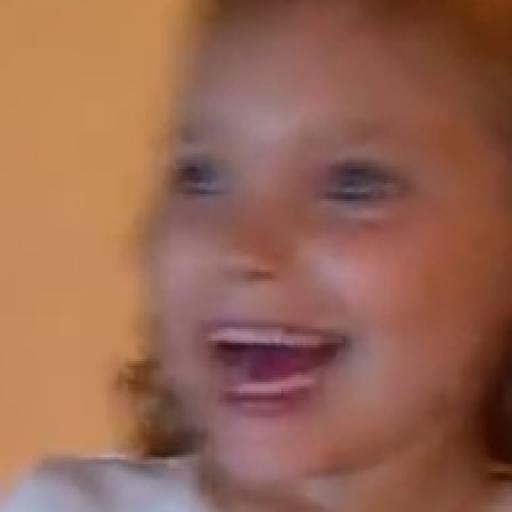Autism: (121, 9, 512, 512)
